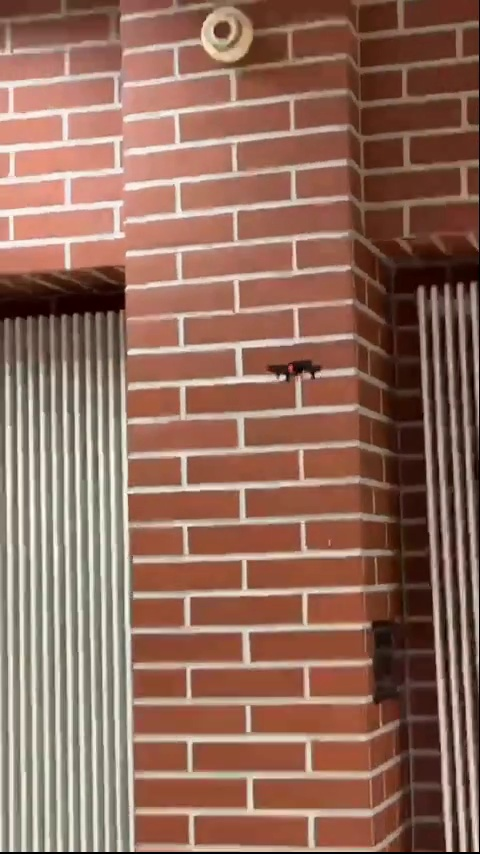drone: (268, 356, 329, 380)
